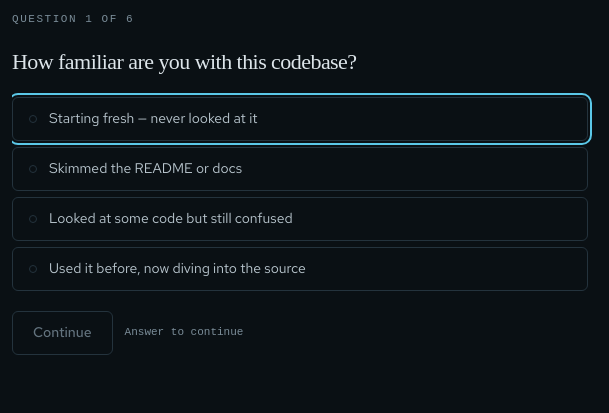
Test case: the review gate › an answer the backend rejects never reaches the gate
Expected: the heading "How familiar are you with this codebase?" is shown, [12,49,356,74]
Step 1. Click the radio button labelled "Skimmed the README or docs" → click(146, 168), box [12,147,588,191]
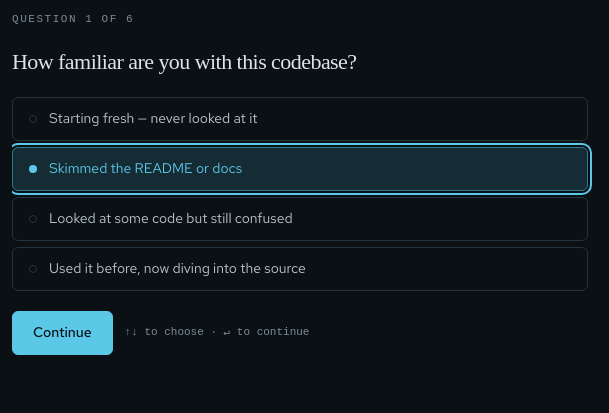
Step 2. Click the button "Continue" → click(62, 333), box [12,311,113,355]
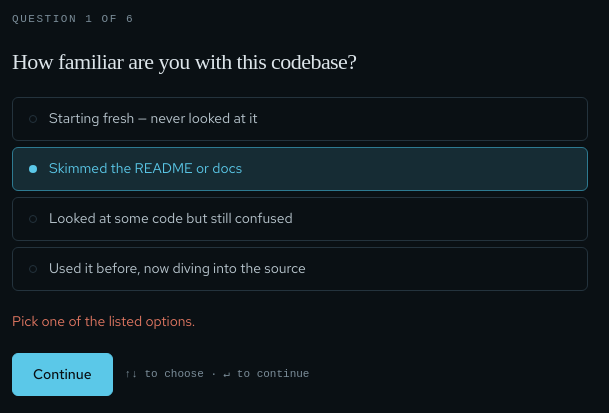
Result: the text "Pick one of the listed options." is shown at [12,312,195,330]
